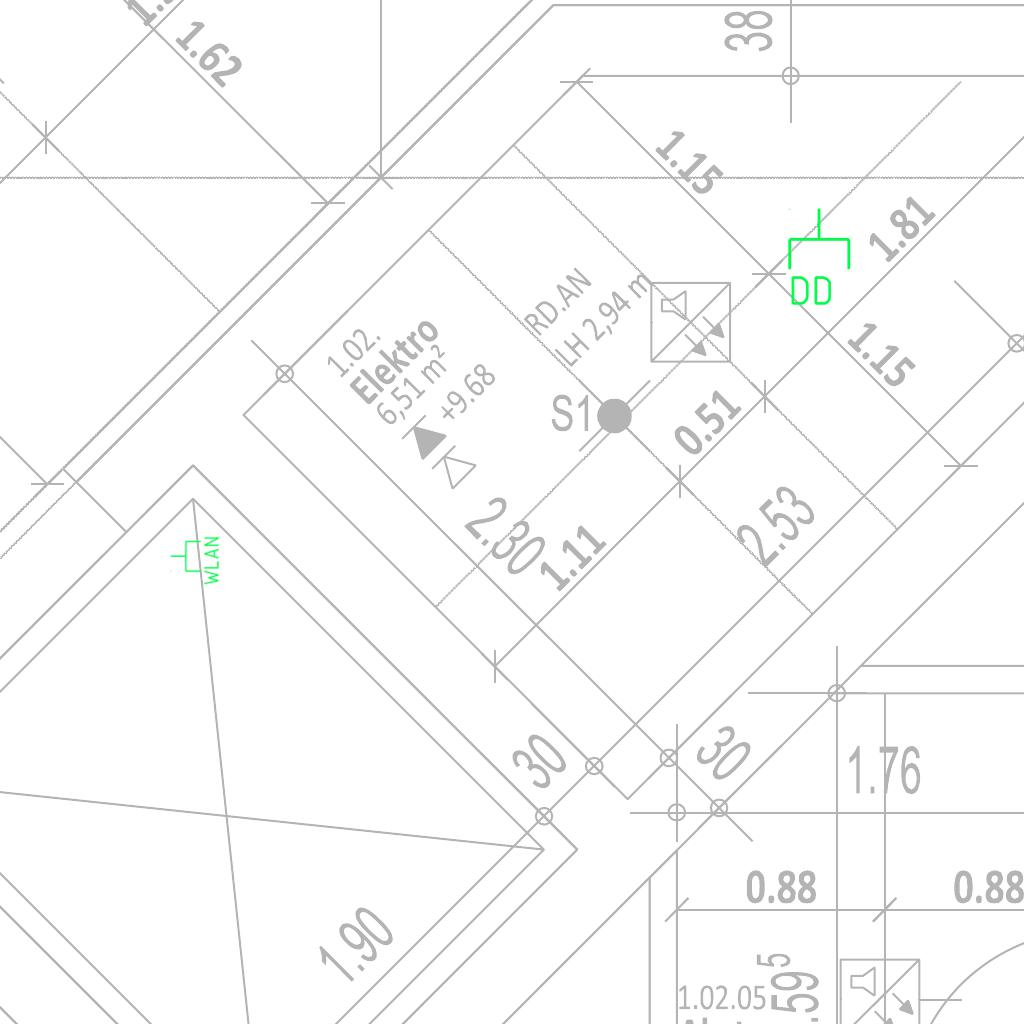Datenanschluss_zweifach: (784, 206, 853, 309)
WLAN: (169, 535, 221, 587)
